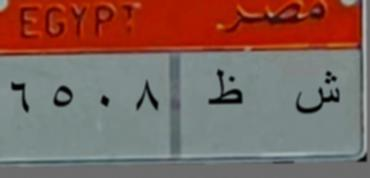0: (90, 86, 120, 115)
5: (48, 74, 81, 122)
6: (4, 76, 35, 121)
8: (131, 76, 166, 122)
Thaa: (210, 64, 246, 112)
sheen: (288, 65, 343, 121)
